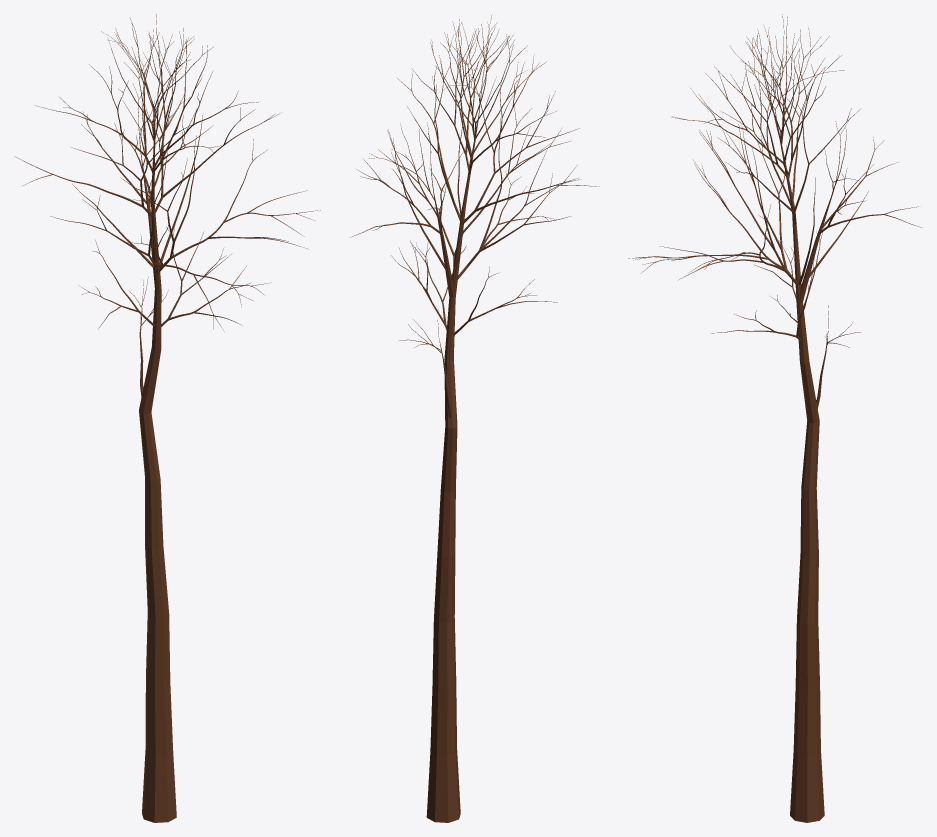
File: _ree1.fbx
The picture shows the model from 3 angles, left to right: view 1: azimuth 30°, elevation 25°; view 2: azimuth 150°, elevation 25°; view 3: azimuth 270°, elevation 25°; orthographic projection. The views are drawn at different scales.
Visible parts, largest first — view 1: tree.002; view 2: tree.002; view 3: tree.002.
Part boxes in pixels (x1=…): tree.002: x1=14, y1=14, x2=320, y2=822; tree.002: x1=350, y1=15, x2=599, y2=822; tree.002: x1=628, y1=14, x2=921, y2=822.
Bounding box in the file's own units: 1361 × 4087 × 1403.
